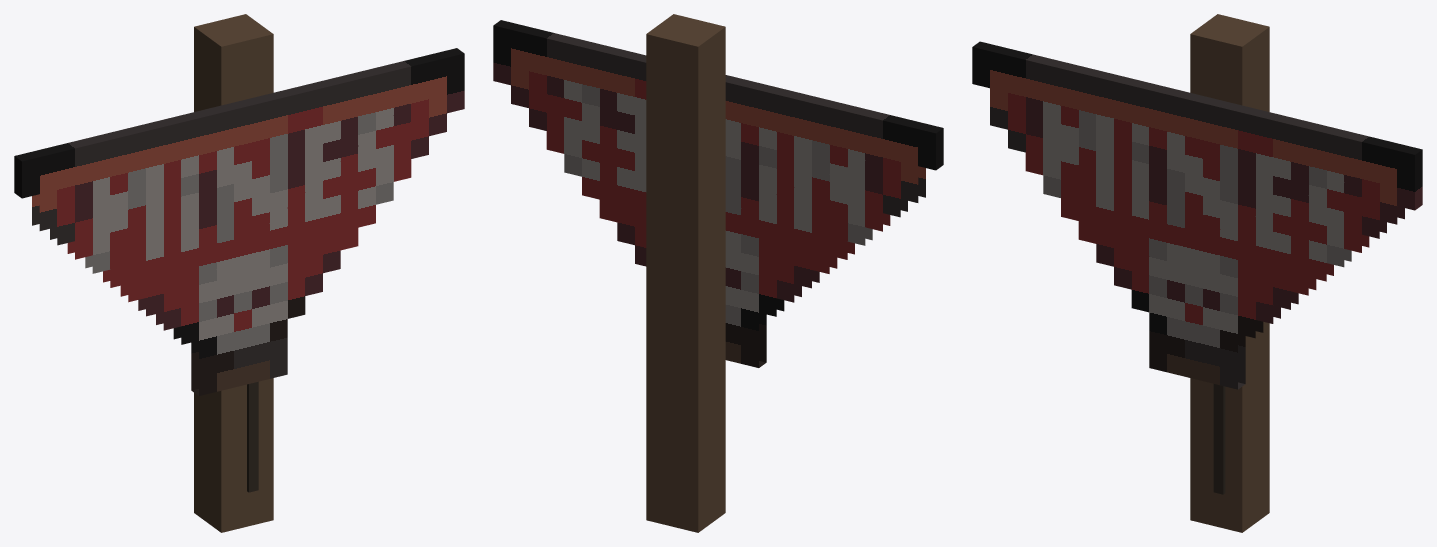
Rendered from CMU3DPrintedDecorSignMines.glb.
The picture shows the model from 3 angles, left to right: view 1: azimuth 30°, elevation 25°; view 2: azimuth 150°, elevation 25°; view 3: azimuth 330°, elevation 25°; orthographic projection.
Parts seen in each view (by area): view 1: triangular printed mine warning, weathered timber warning post, dark split timber groove; view 2: triangular printed mine warning, weathered timber warning post; view 3: triangular printed mine warning, weathered timber warning post, dark split timber groove.
Part boxes in pixels (bbox=[...]): triangular printed mine warning: bbox=[14, 48, 464, 395]; weathered timber warning post: bbox=[194, 14, 273, 532]; dark split timber groove: bbox=[247, 381, 258, 492]; triangular printed mine warning: bbox=[493, 20, 943, 367]; weathered timber warning post: bbox=[646, 14, 725, 532]; triangular printed mine warning: bbox=[972, 41, 1422, 389]; weathered timber warning post: bbox=[1190, 14, 1269, 532]; dark split timber groove: bbox=[1213, 384, 1225, 494].
Bounding box in the file's own units: 0.7812 × 0.82 × 0.112.
3 materials, 1 textured.
